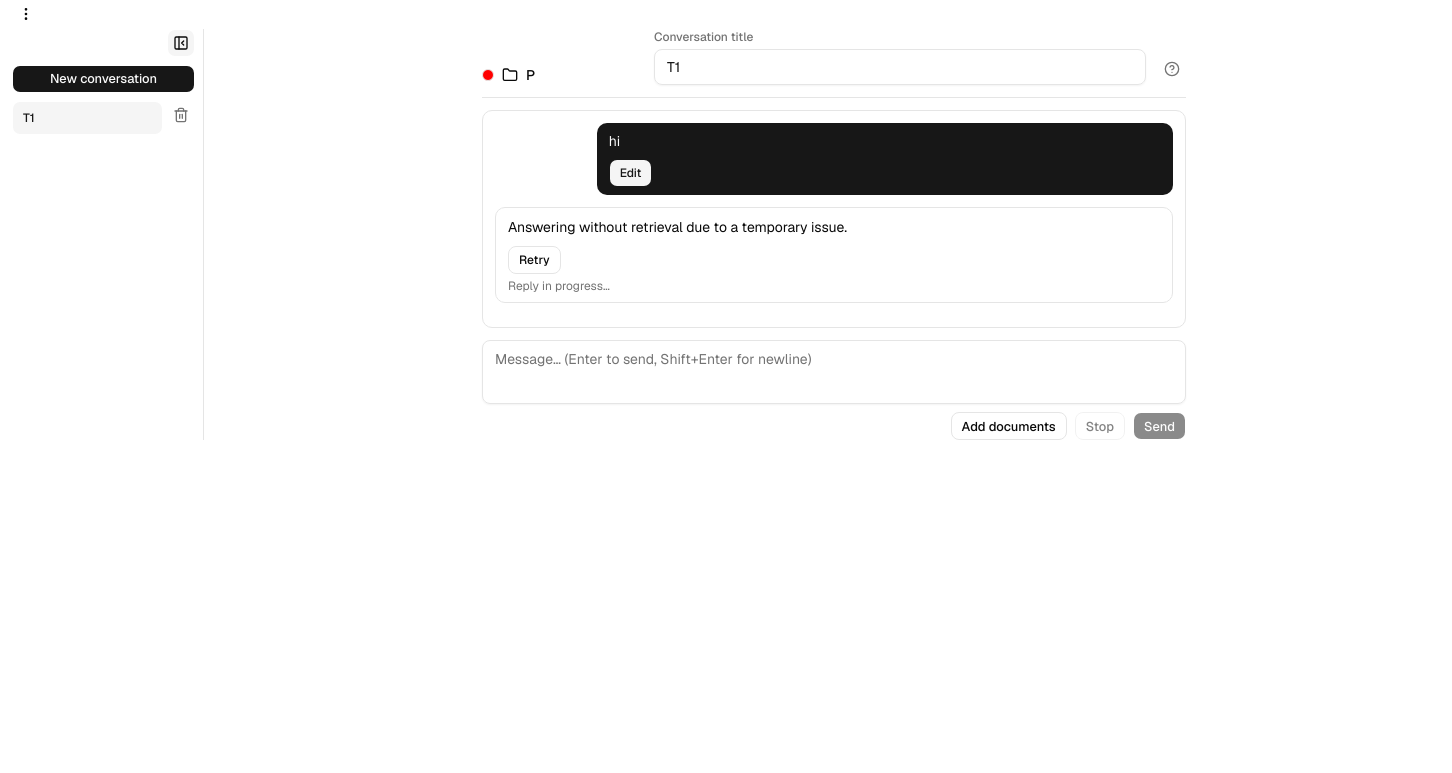
Test: ChatPage › reverts model UI and refetches runtime-state when PATCH fails
Step 1. Click the button "T1" → x=88, y=118, box [12,101,163,135]
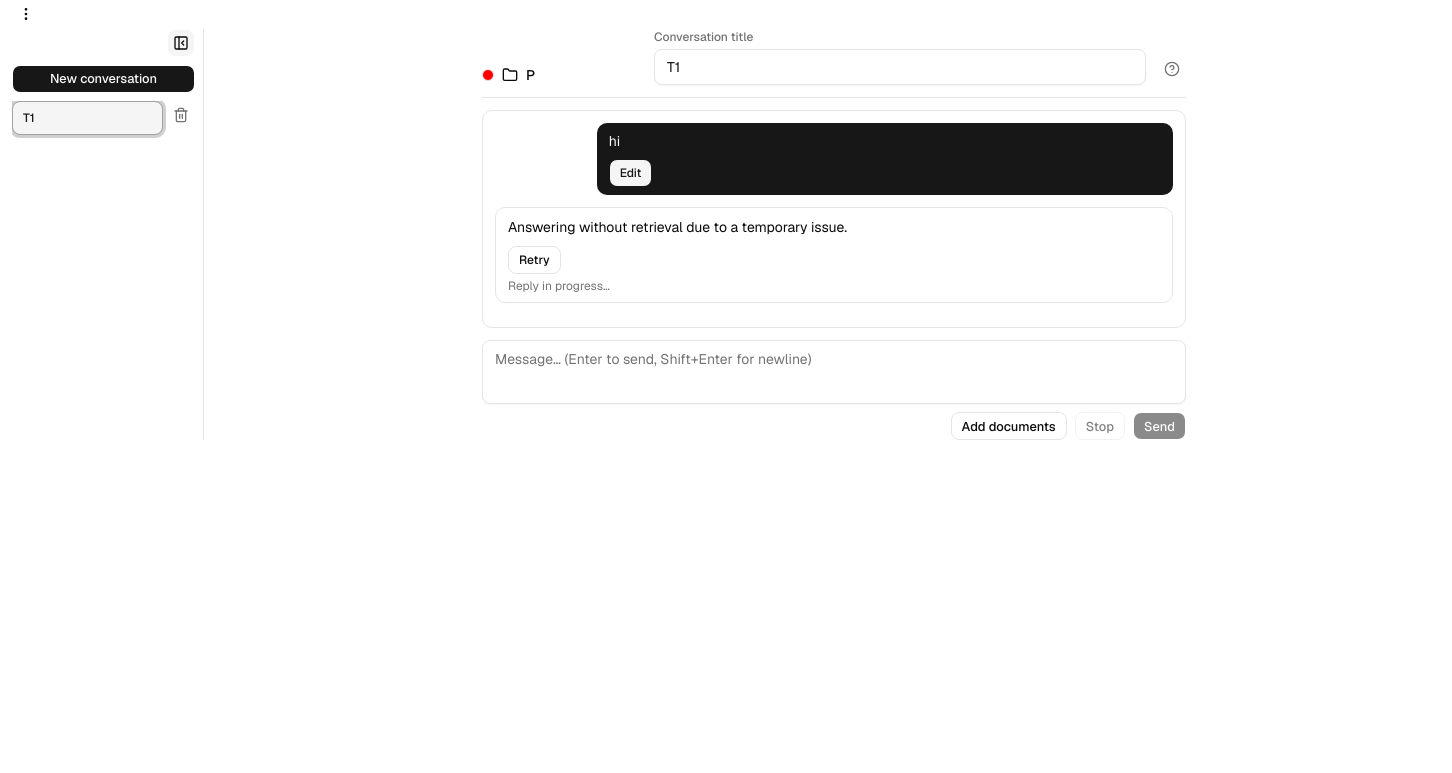
Step 2. Click the button with test id "chat-config-trigger" → x=26, y=14, box [12,0,40,28]
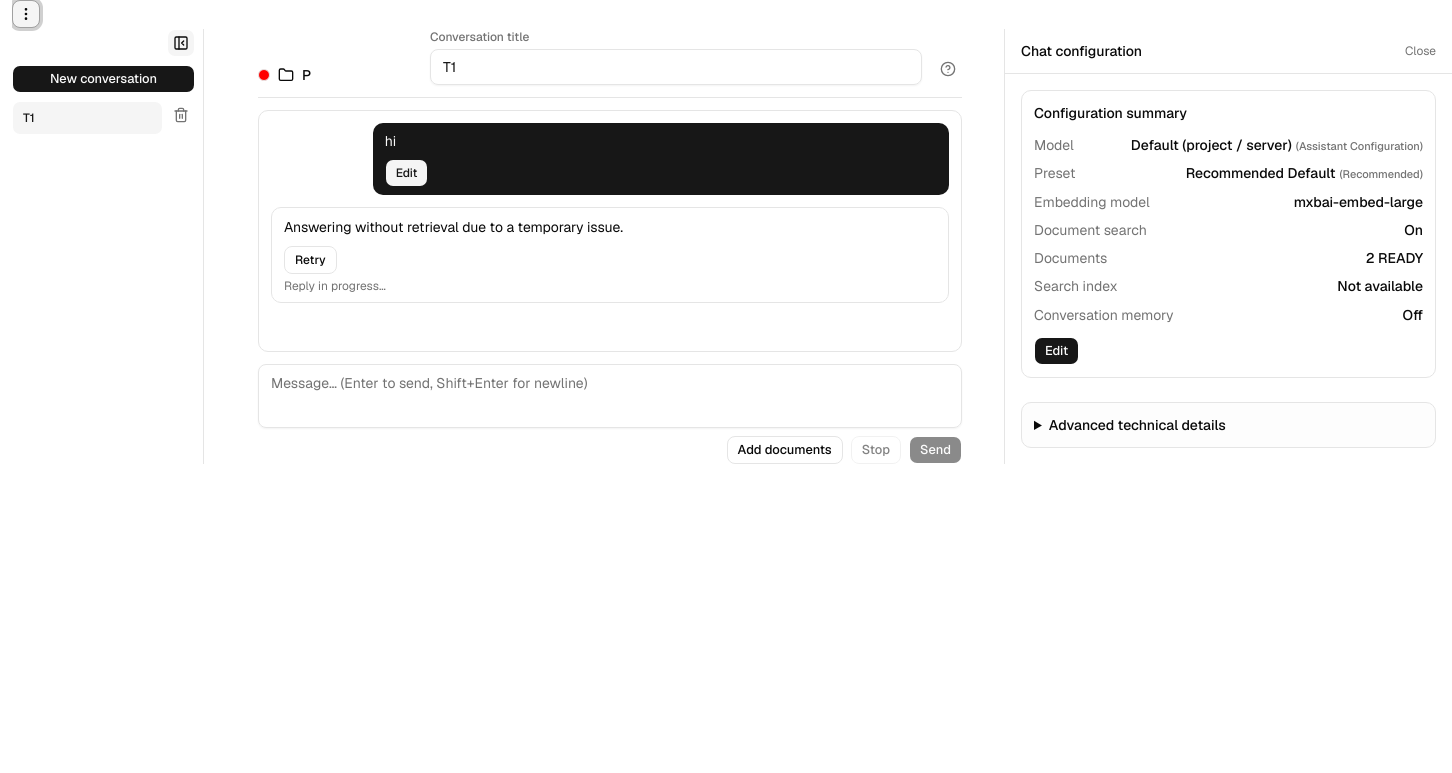
expect the element with test id "chat-configuration-side-panel" is shown: met, box [1004,29,1451,464]
Step 3. Click the button with test id "chat-config-edit-button" → x=1057, y=351, box [1034,337,1079,365]
(page scrolled)
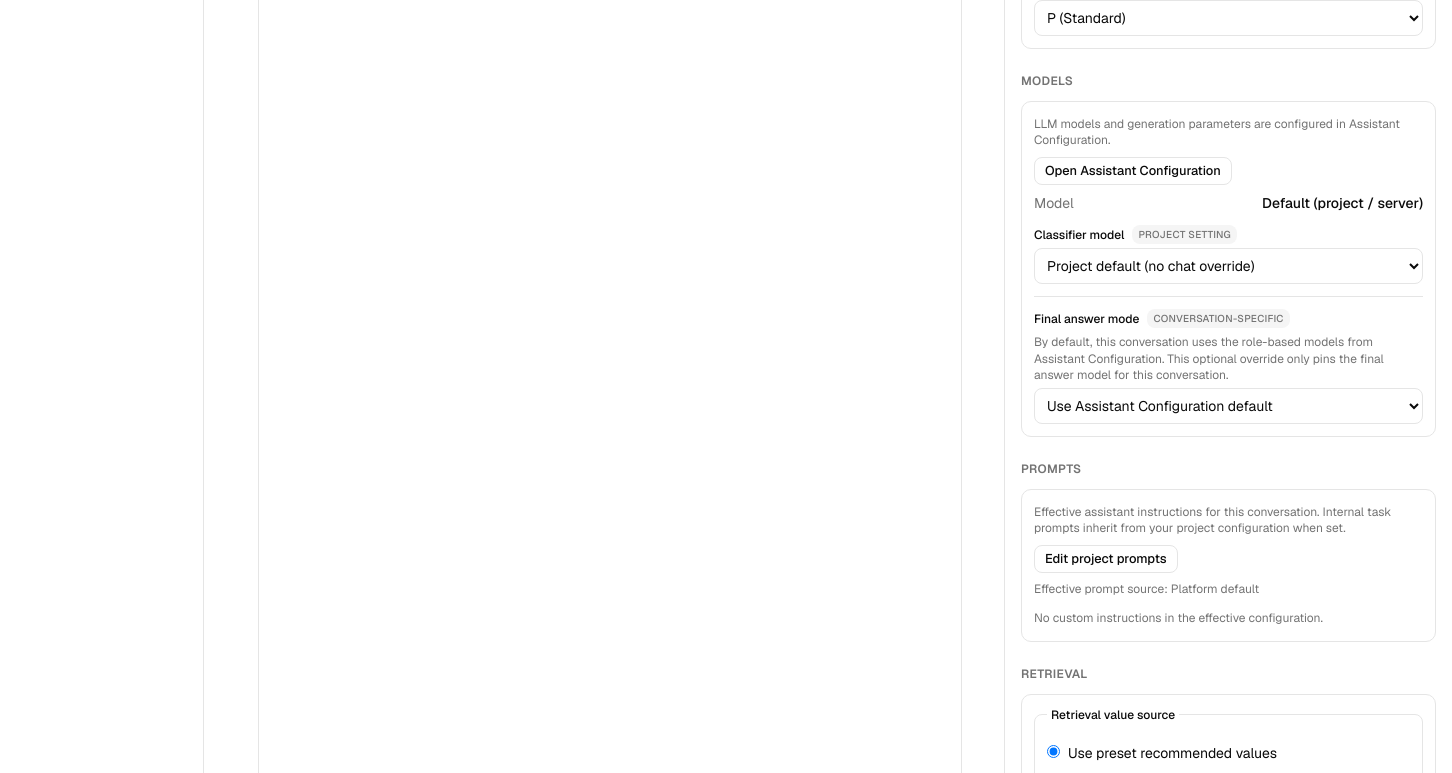
Step 4. Select "llama (Local model provider)" in the dropdown with test id "chat-final-answer-model-select" → x=1228, y=406, box [1034,388,1423,424]
(page scrolled)
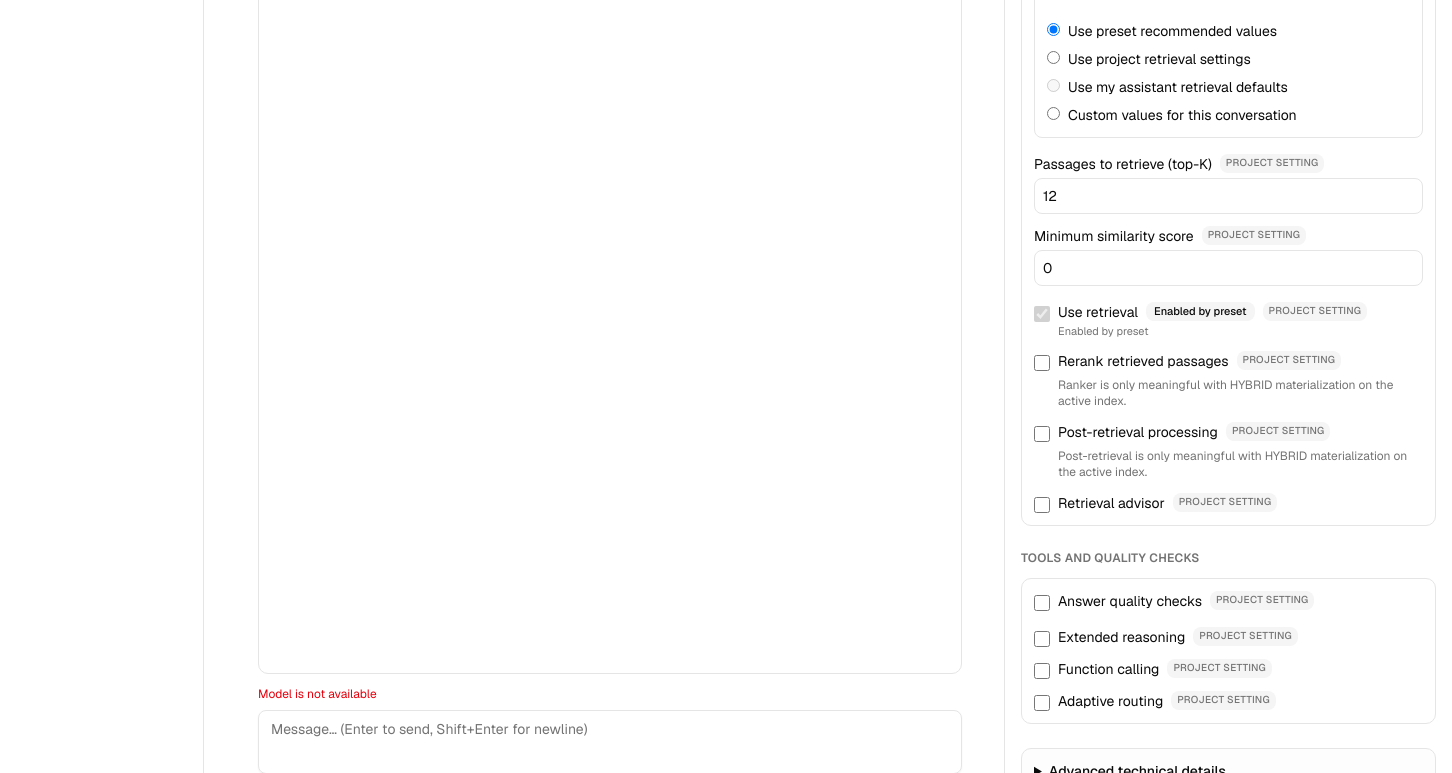
expect the text "Model is not available" is shown: met, box [258,686,377,702]
